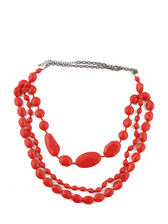other: (12, 58, 154, 203)
